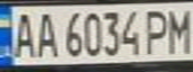0: (81, 8, 103, 57)
3: (100, 8, 124, 56)
4: (118, 7, 145, 56)
6: (60, 8, 84, 59)
A: (9, 9, 39, 60), (33, 8, 60, 59)
M: (163, 6, 193, 54)
P: (142, 6, 172, 55)
